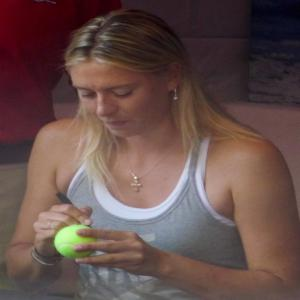TennisBall: (56, 226, 100, 259)
